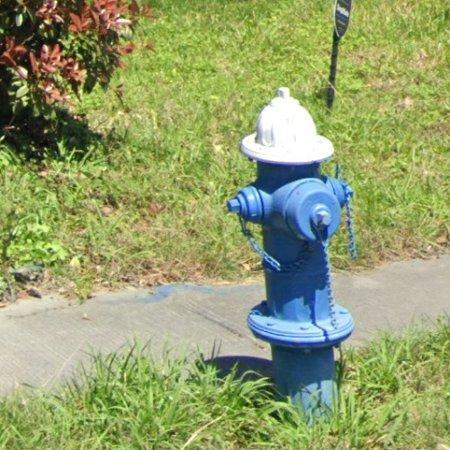a fire hydrant: (227, 88, 354, 414)
